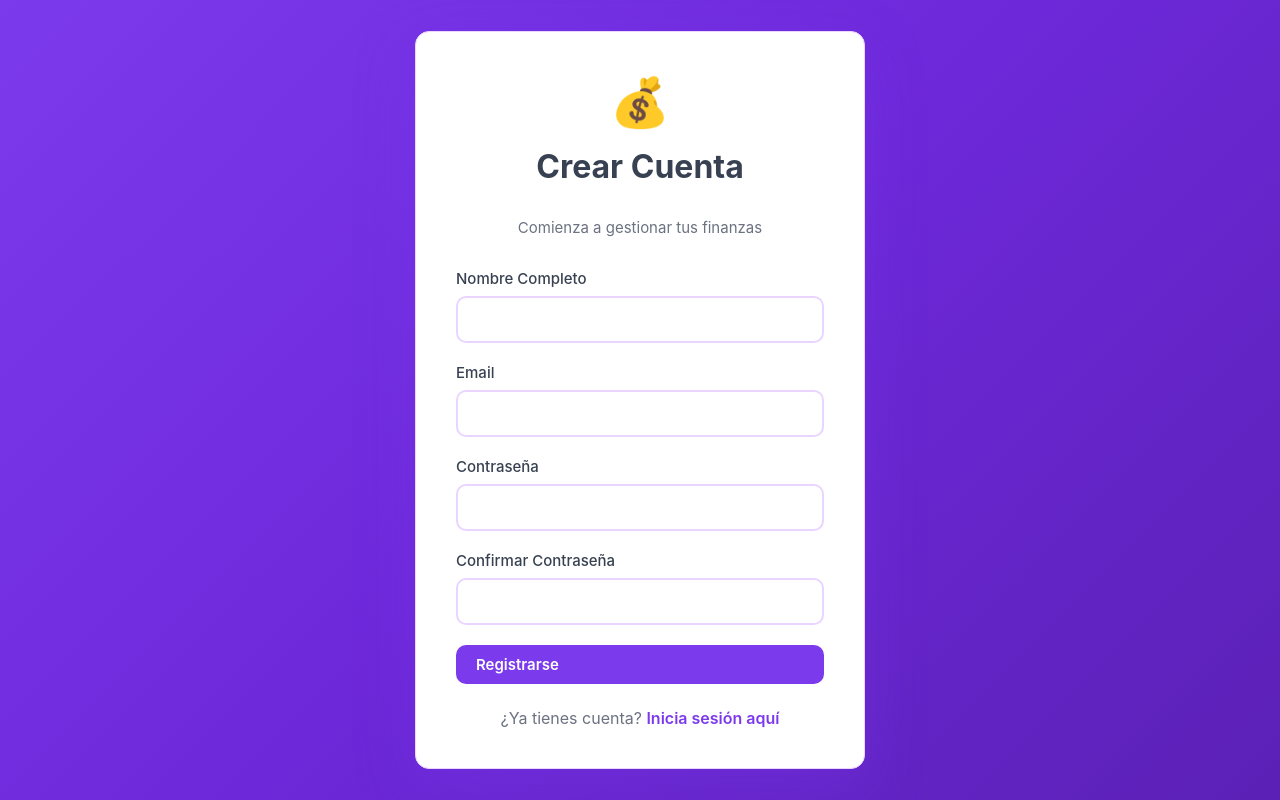
Test case: Register Component › debe manejar errores de registro
Type "Test" into the field labelled "Nombre Completo" at point(640, 320), box left=456, top=296, right=824, bottom=343
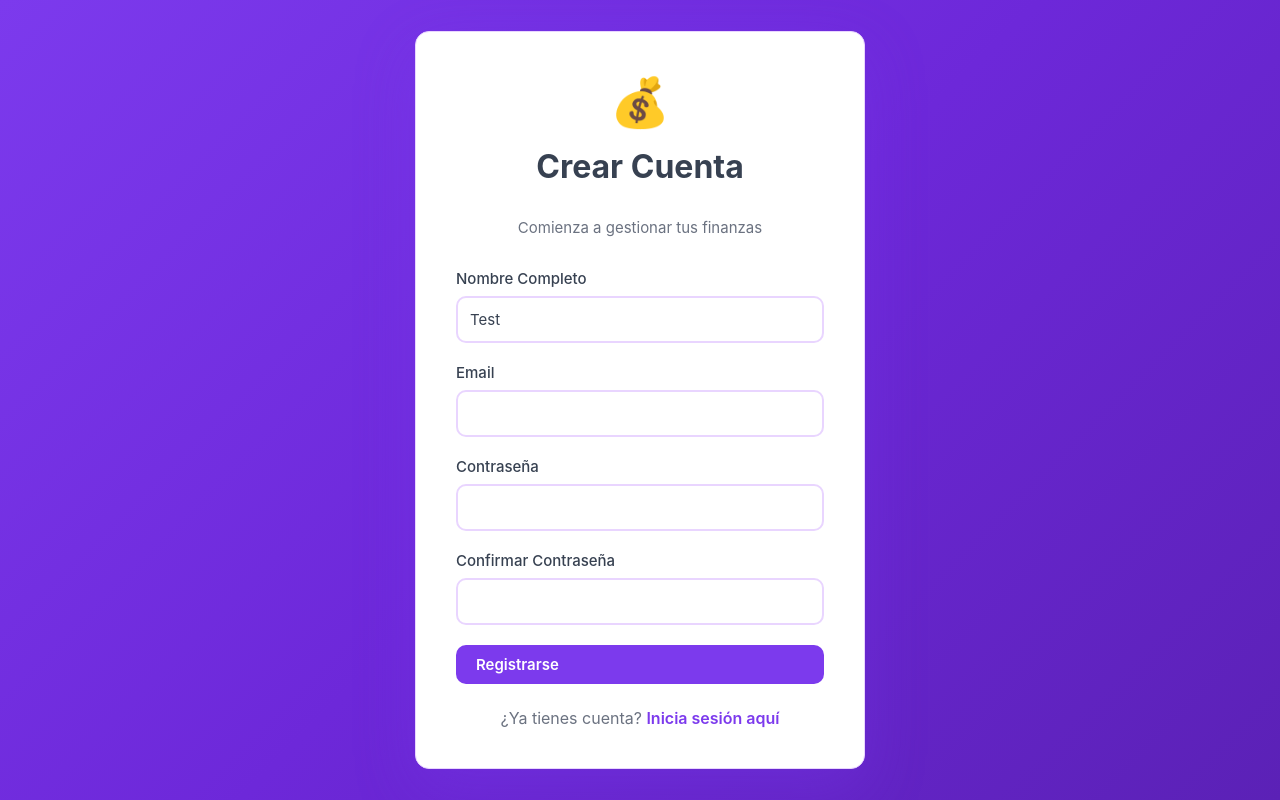
Type "test@test.com" into the field labelled "Email" at point(640, 414), box left=456, top=390, right=824, bottom=437
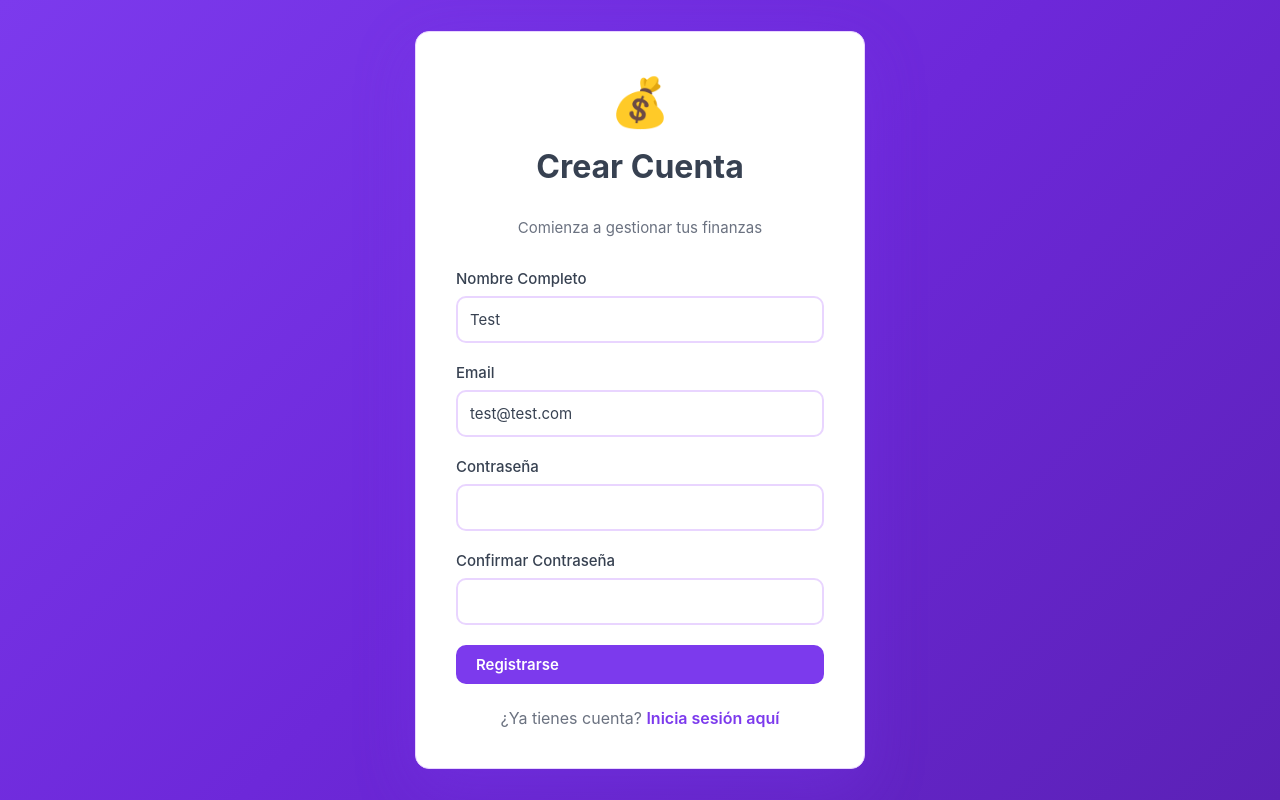
Type "Pass123!" into the password field labelled "Contraseña" at point(640, 508), box left=456, top=484, right=824, bottom=531
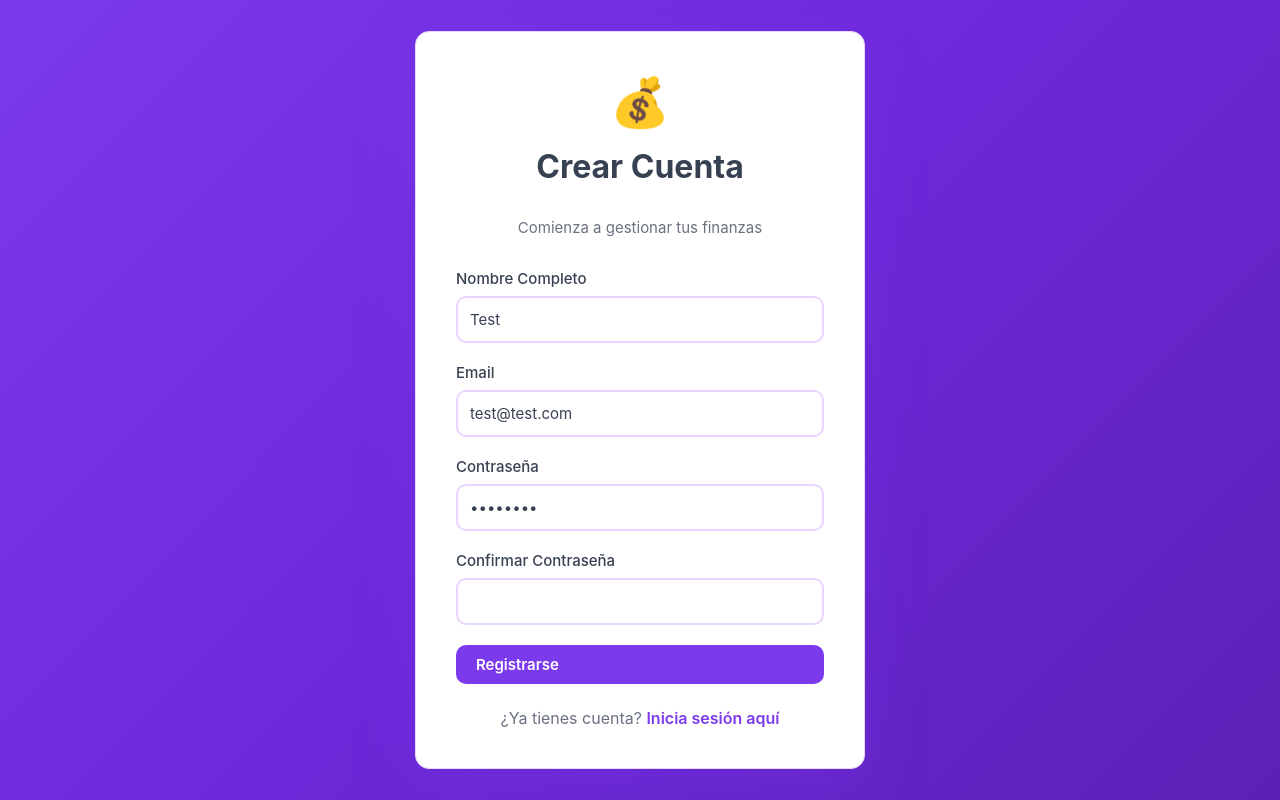
Type "Pass123!" into the password field labelled "Confirmar Contraseña" at point(640, 602), box left=456, top=578, right=824, bottom=625
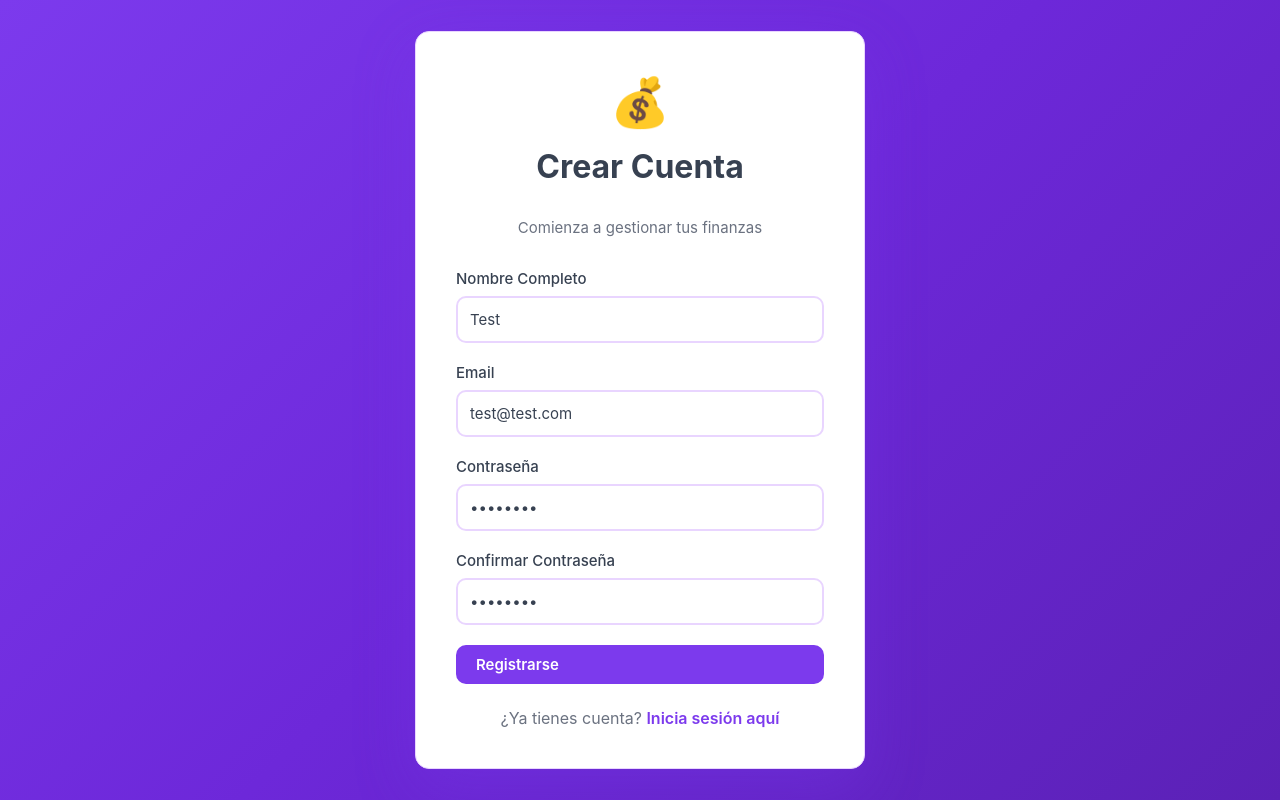
Click the button "Registrarse" at point(517, 664), box left=456, top=645, right=824, bottom=684
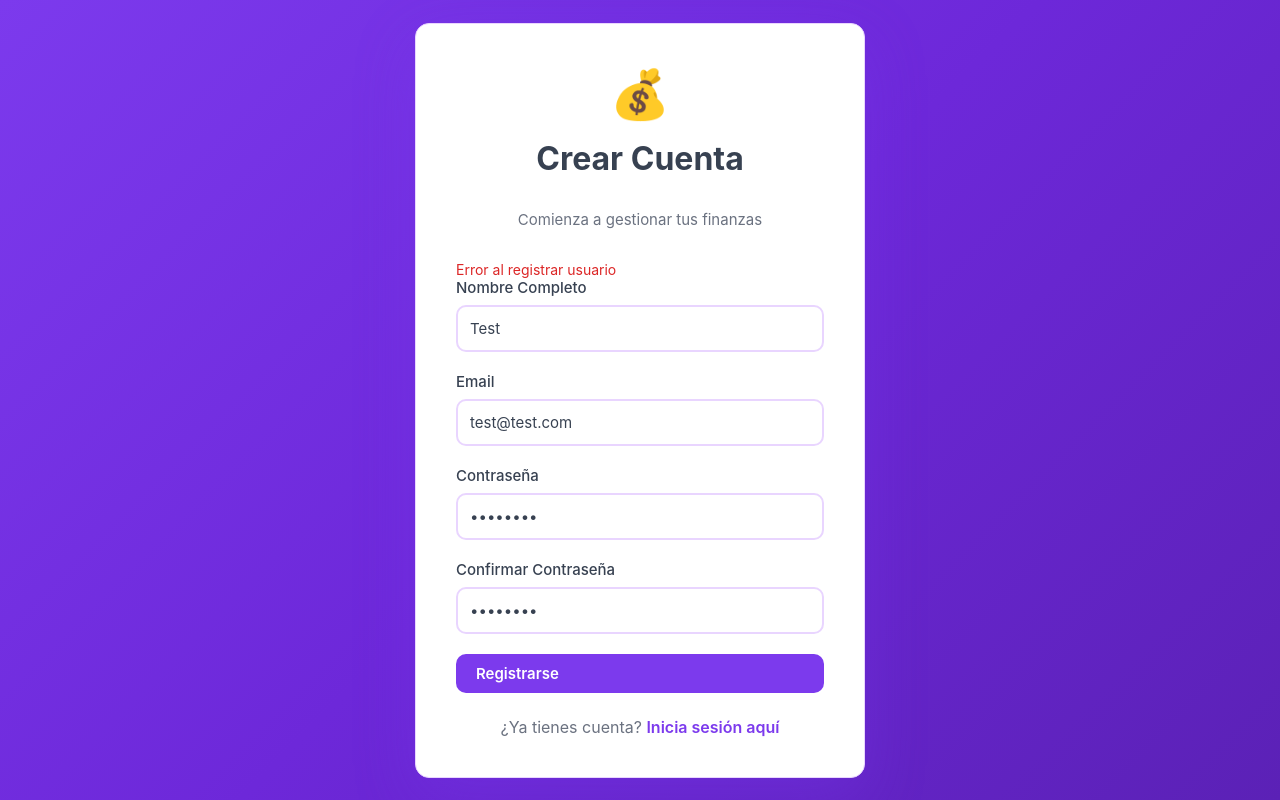
Expected: the text "Error al registrar usuario" is shown, left=456, top=260, right=616, bottom=278
